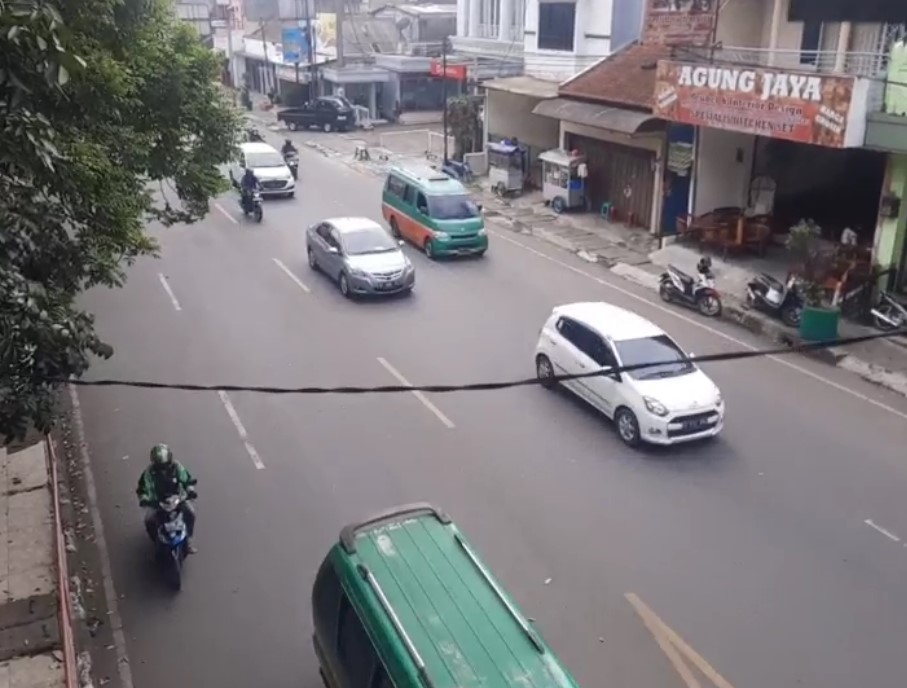mobil: (605, 332, 725, 453), (338, 227, 411, 303), (421, 192, 490, 262)
motor: (136, 440, 203, 589), (235, 167, 265, 223)
